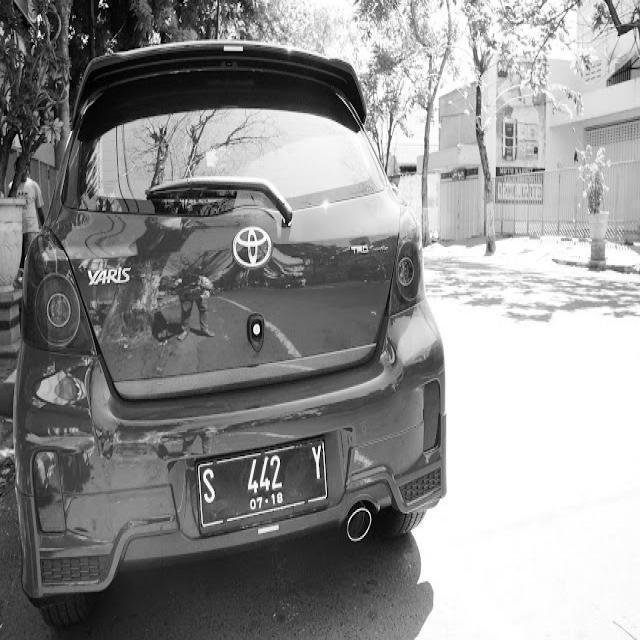2: (271, 454, 285, 492)
4: (244, 458, 259, 496), (259, 456, 271, 494)
S: (200, 468, 218, 505)
Y: (310, 443, 324, 482)
